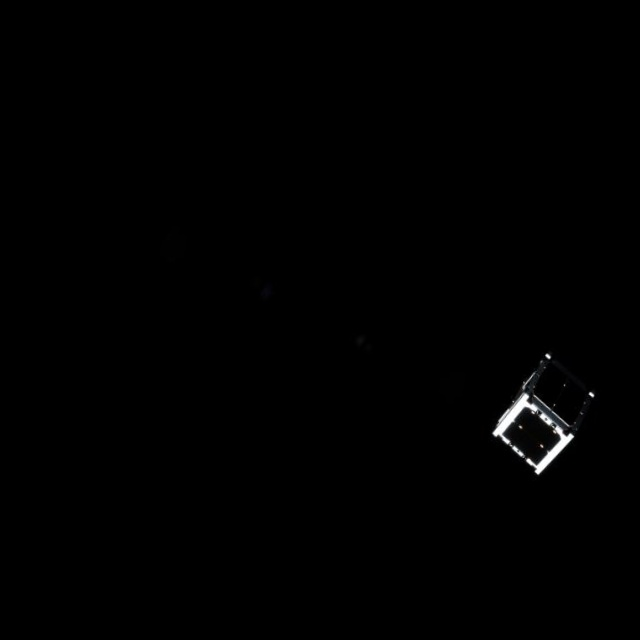satellite: (485, 343, 610, 490)
